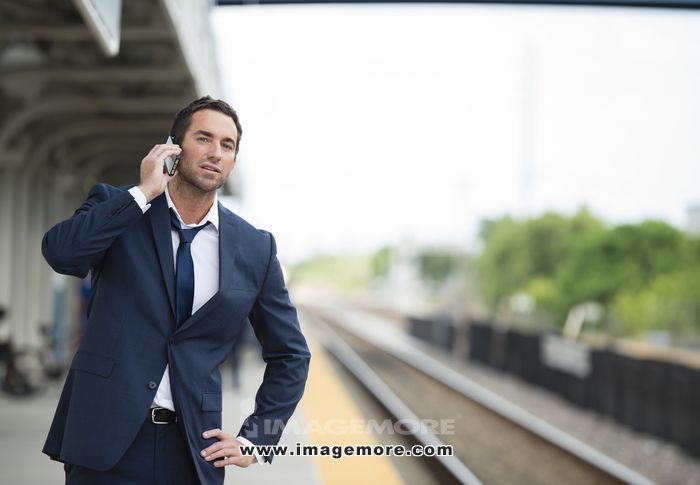phone: (157, 133, 187, 179)
talk: (137, 130, 238, 189)
